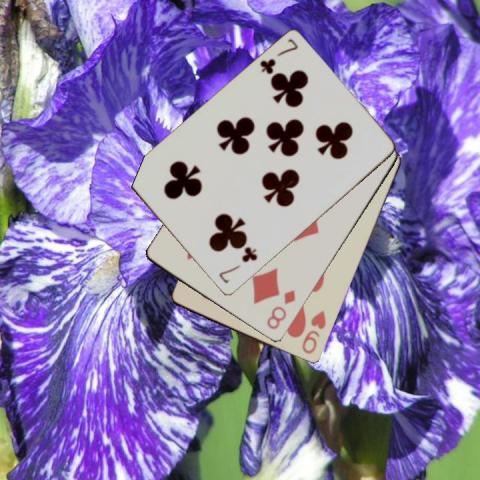7c: (257, 35, 299, 77), (215, 245, 259, 285)
8d: (264, 287, 298, 331)
9h: (299, 307, 327, 356)
